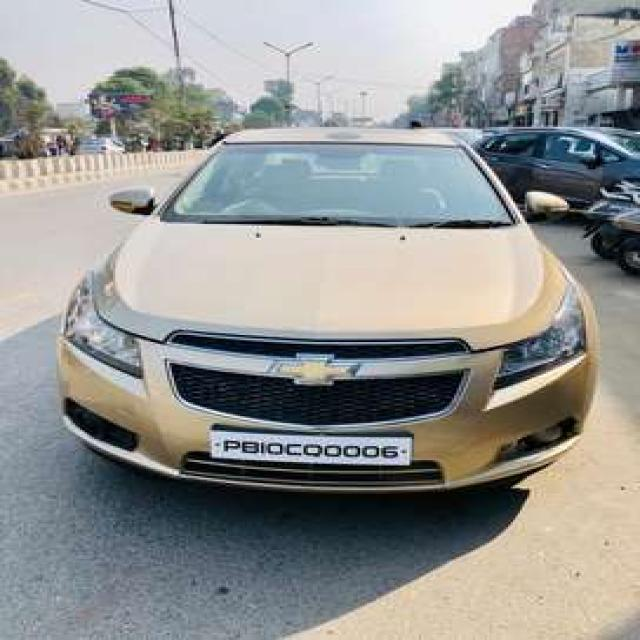plate: (210, 428, 413, 466)
